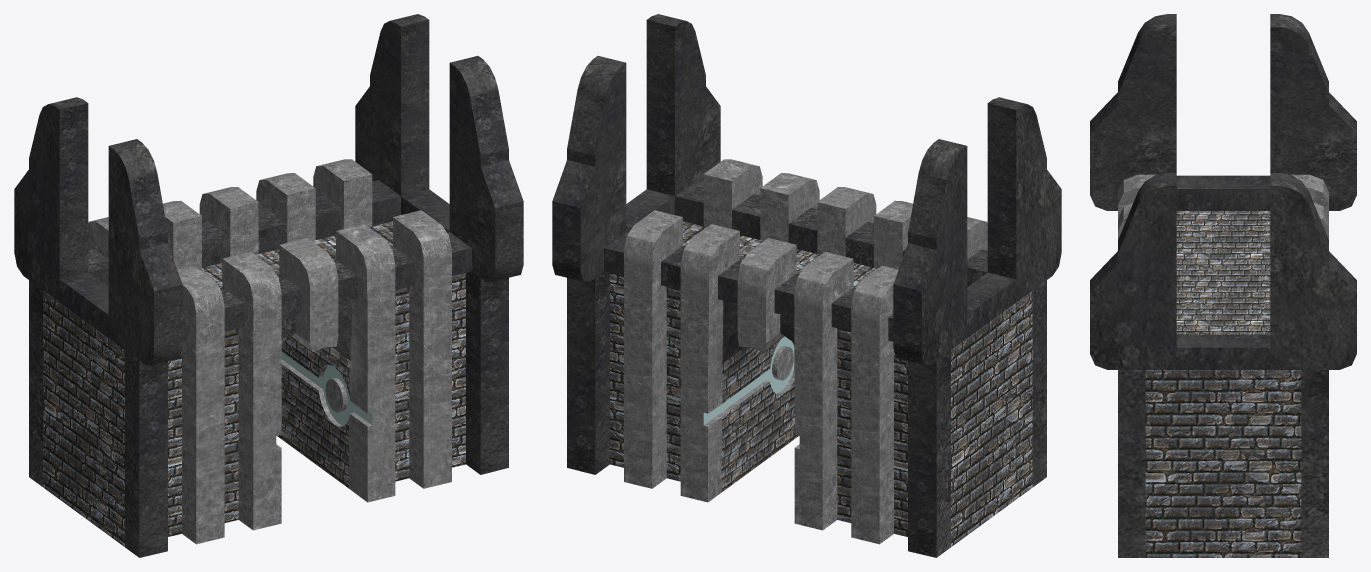
File: Entrance.fbx
3 views of the same model, side by side, from view 1: azimuth 30°, elevation 25°; view 2: azimuth 150°, elevation 25°; view 3: azimuth 270°, elevation 25° (orthographic). The views are drawn at different scales.
Visible parts, largest first — view 1: pCube7; view 2: pCube7; view 3: pCube7.
Part boxes in pixels (x1=…): pCube7: x1=14, y1=14, x2=523, y2=557; pCube7: x1=552, y1=14, x2=1061, y2=557; pCube7: x1=1090, y1=14, x2=1356, y2=557.
Bounding box in the file's own units: 30 × 30.25 × 19.64.
